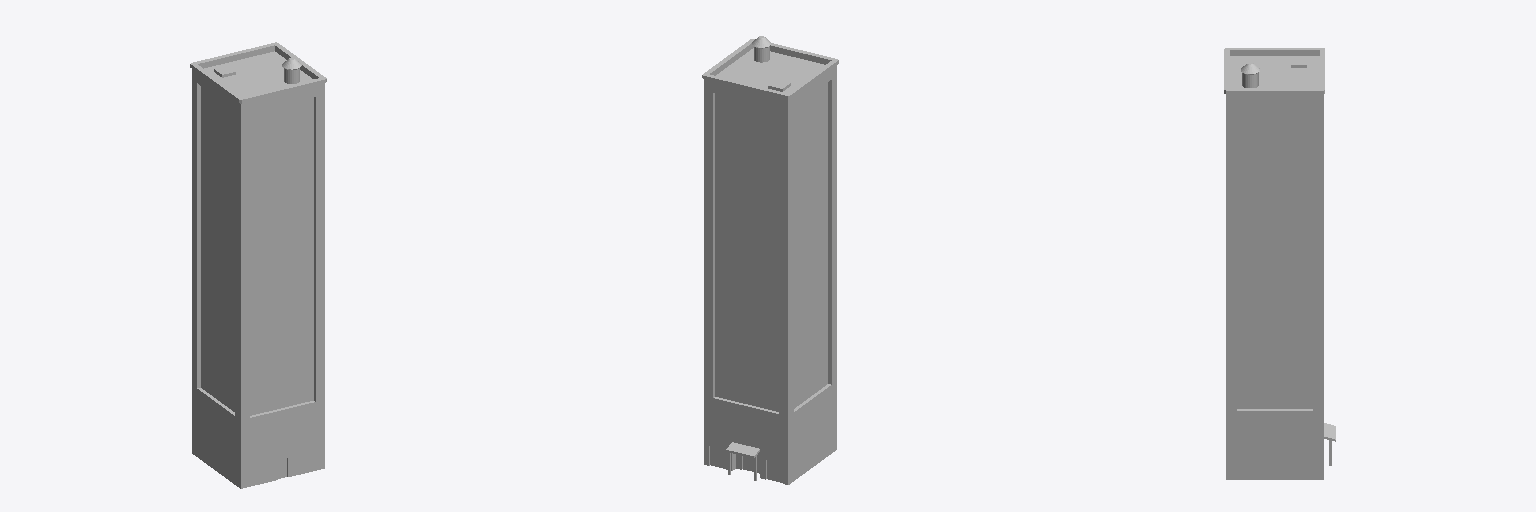
Rendered from skyscraper_d.obj.
3 renders of one model, left to right at view 1: azimuth 30°, elevation 25°; view 2: azimuth 150°, elevation 25°; view 3: azimuth 270°, elevation 25°, orthographic.
Visible parts, largest first — view 1: skyscraperD; view 2: skyscraperD; view 3: skyscraperD.
Boxes of the visible parts, x1=… form: skyscraperD: x1=190, y1=42, x2=326, y2=488; skyscraperD: x1=702, y1=36, x2=838, y2=484; skyscraperD: x1=1224, y1=48, x2=1335, y2=479.
Bounding box in the file's own units: 2.48 × 11 × 2.74.